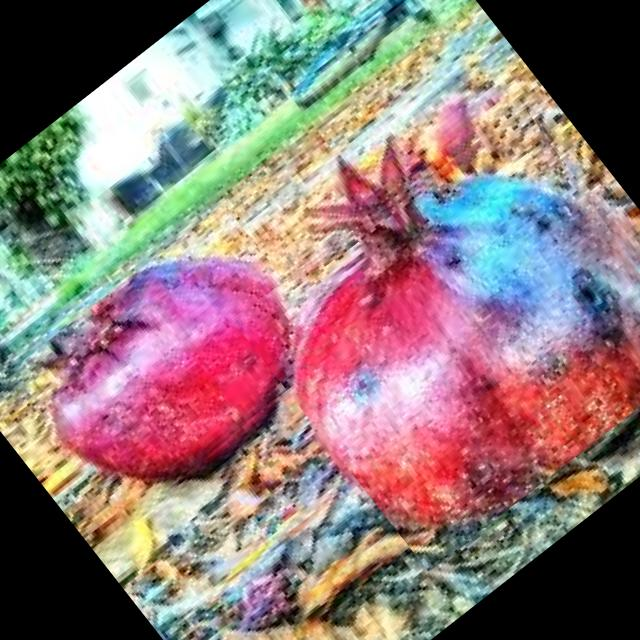Organic: (232, 96, 640, 571), (0, 203, 344, 536)
